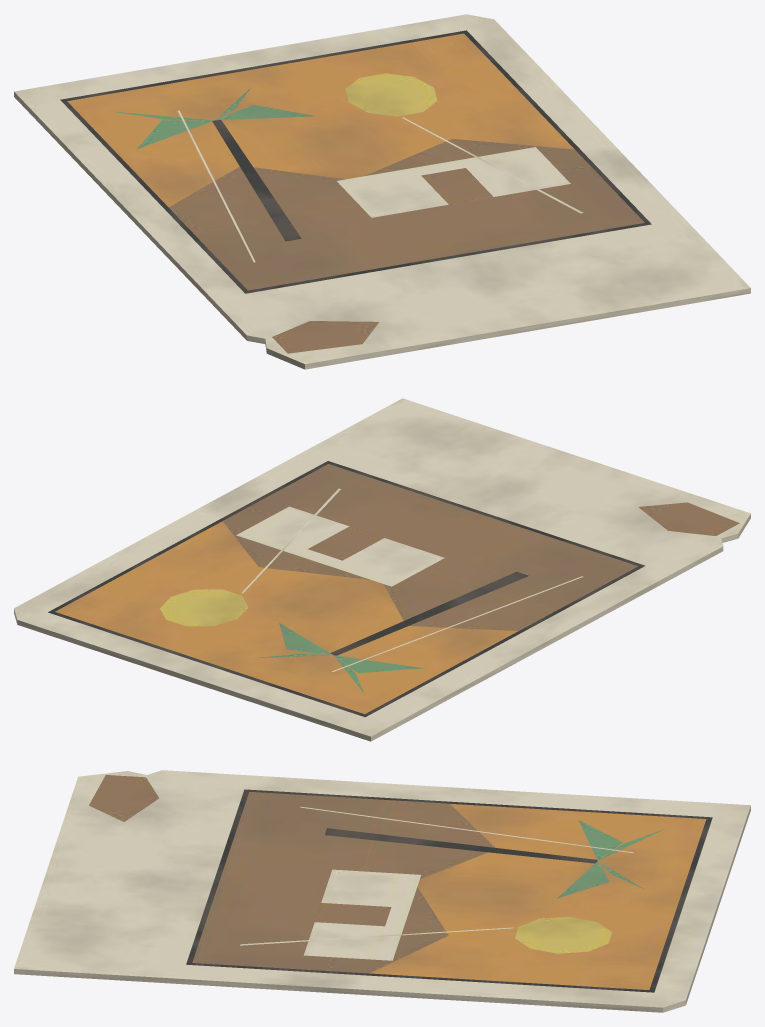
Rendered from P31_polaroid_photos_v2.glb.
3 views of the same model, one above another, from view 1: azimuth 30°, elevation 25°; view 2: azimuth 150°, elevation 25°; view 3: azimuth 270°, elevation 25° (orthographic). The views are drawn at different scales.
Visible parts, largest first — view 1: Old instant photograph; view 2: Old instant photograph; view 3: Old instant photograph.
Part boxes in pixels (bbox=[...]): Old instant photograph: bbox=[14, 14, 750, 369]; Old instant photograph: bbox=[14, 398, 750, 741]; Old instant photograph: bbox=[14, 770, 750, 1012].
Size of the model in its own units: 0.0762 by 0.000862 by 0.1.
Materials: 6 (6 with a texture image).
